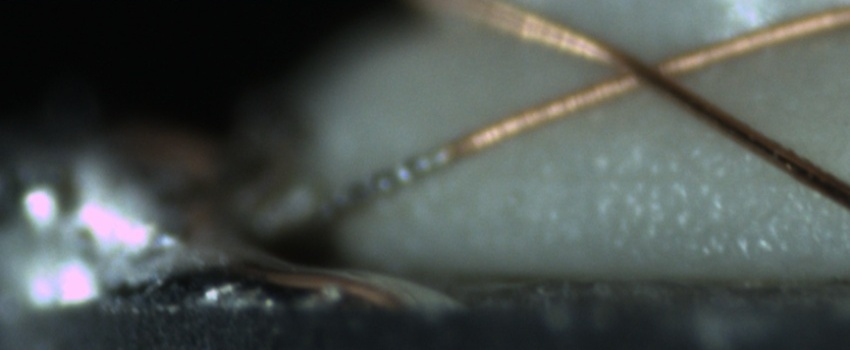CL: (592, 37, 693, 102)
DL: (504, 141, 774, 205)
TS: (252, 145, 450, 251)
TTCW: (252, 130, 484, 233)
